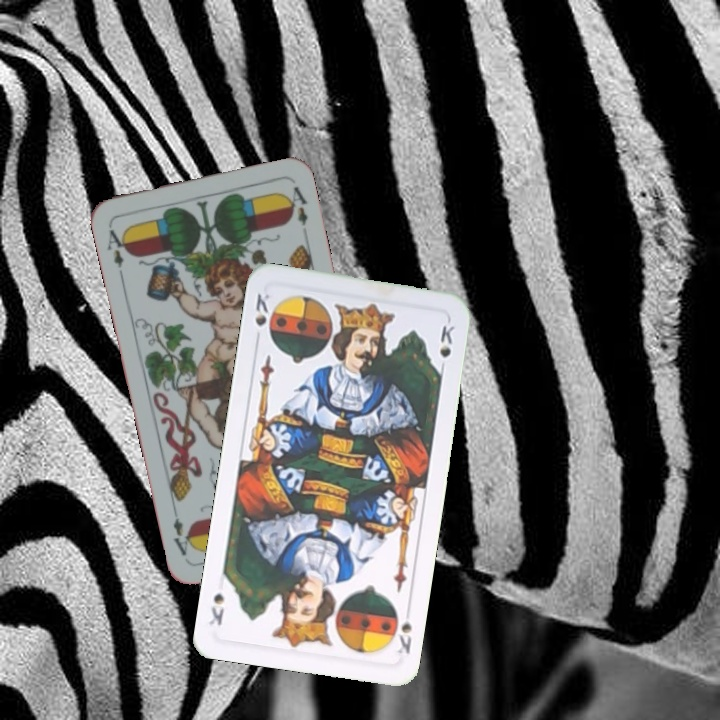EA: (103, 222, 132, 281)
SK: (387, 602, 415, 657), (251, 289, 273, 346)
